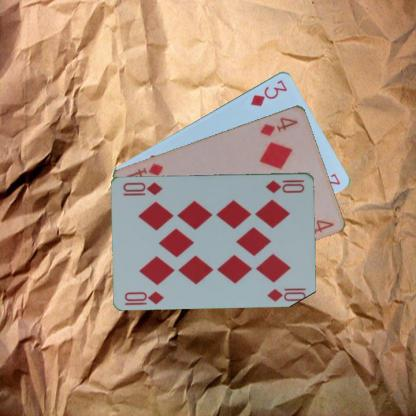10d: (263, 177, 306, 194), (122, 288, 165, 305)
3d: (248, 77, 288, 107)
4d: (258, 114, 300, 137)
